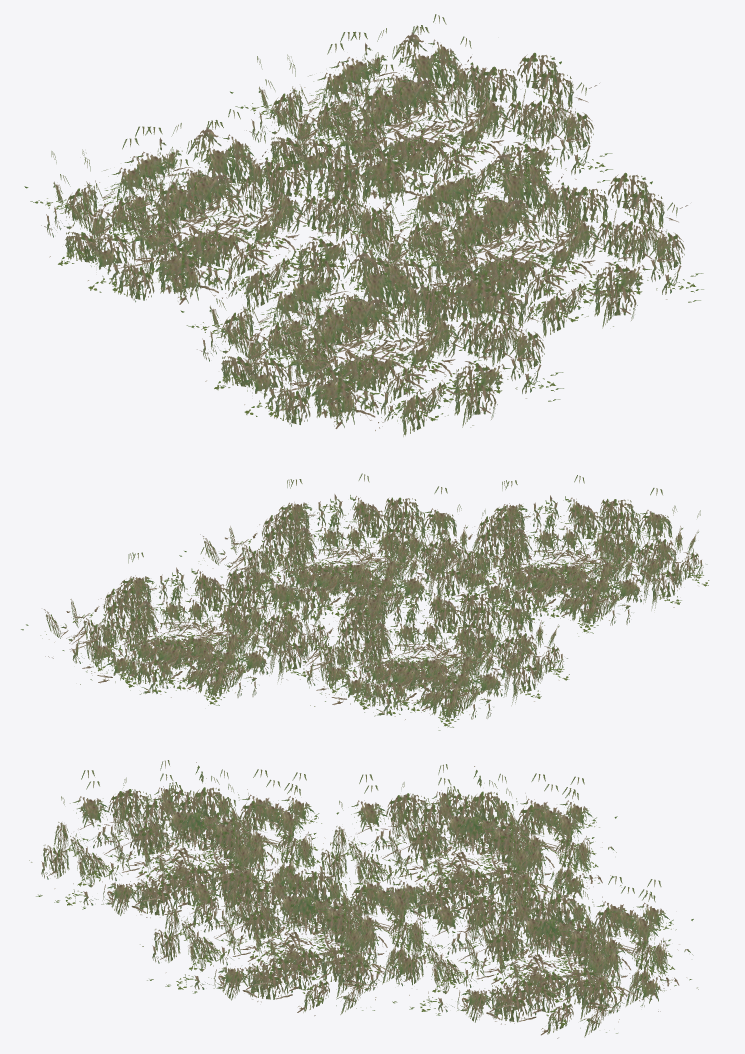
File: tve_grass_03_detail.glb
3 views of the same model, one above another, from view 1: azimuth 30°, elevation 25°; view 2: azimuth 150°, elevation 25°; view 3: azimuth 270°, elevation 25° (orthographic). The views are drawn at different scales.
Parts seen in each view (by area): view 1: TVE_Grass_03_Detail; view 2: TVE_Grass_03_Detail; view 3: TVE_Grass_03_Detail.
Boxes of the visible parts, box(x1,y1,x2,y2) form: TVE_Grass_03_Detail: box(24, 14, 703, 436); TVE_Grass_03_Detail: box(21, 473, 709, 730); TVE_Grass_03_Detail: box(29, 760, 698, 1038).
Size of the model in its own units: 5.74 by 0.7812 by 6.89.
Materials: 1 (1 with a texture image).
